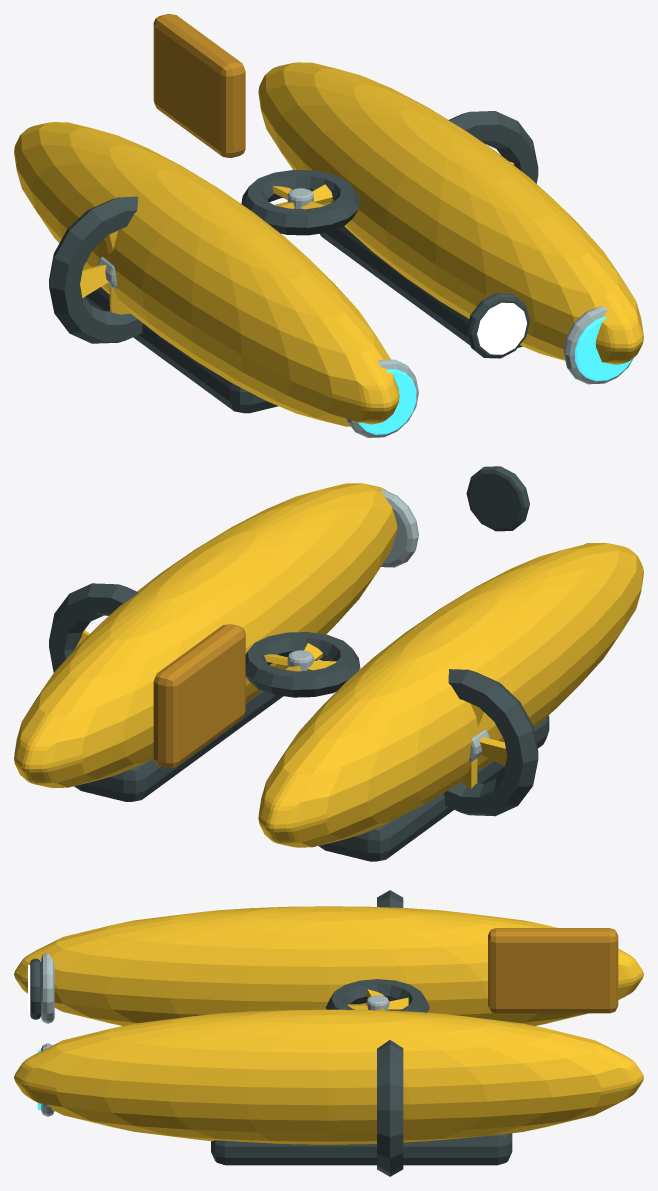
File: rov-hobbyist.glb
The picture shows the model from 3 angles, top to bottom: view 1: azimuth 30°, elevation 25°; view 2: azimuth 150°, elevation 25°; view 3: azimuth 270°, elevation 25°; orthographic projection. The views are drawn at different scales.
Parts seen in each view (by area): view 1: streamlined_hull_-0.3, streamlined_hull_0.3, tail_fin, drive_-0.43_housing, depth_housing, keel_-0.3, keel_0.3, drive_0.43_housing, nose_light, camera_0.27, camera_-0.27, nose_light_case (+3 smaller); view 2: streamlined_hull_-0.3, streamlined_hull_0.3, tail_fin, drive_-0.43_housing, depth_housing, keel_-0.3, keel_0.3, drive_0.43_housing, nose_light_case, camera_0.27_rim; view 3: streamlined_hull_0.3, streamlined_hull_-0.3, tail_fin, keel_0.3, drive_0.43_housing, depth_housing, camera_-0.27_rim, nose_light_case.
Boxes of the visible parts, bbox=[...] form: streamlined_hull_-0.3: bbox=[14, 122, 399, 426]; streamlined_hull_0.3: bbox=[258, 62, 643, 364]; tail_fin: bbox=[153, 14, 245, 157]; drive_-0.43_housing: bbox=[49, 196, 142, 343]; depth_housing: bbox=[241, 170, 360, 235]; keel_-0.3: bbox=[82, 269, 278, 413]; keel_0.3: bbox=[320, 204, 522, 347]; drive_0.43_housing: bbox=[448, 111, 538, 183]; nose_light: bbox=[477, 302, 527, 354]; camera_0.27: bbox=[575, 317, 632, 381]; camera_-0.27: bbox=[358, 369, 416, 434]; nose_light_case: bbox=[466, 293, 529, 358]; streamlined_hull_-0.3: bbox=[258, 543, 643, 847]; streamlined_hull_0.3: bbox=[14, 483, 397, 787]; tail_fin: bbox=[153, 624, 245, 767]; drive_-0.43_housing: bbox=[443, 669, 538, 816]; depth_housing: bbox=[245, 632, 360, 697]; keel_-0.3: bbox=[319, 715, 549, 861]; keel_0.3: bbox=[74, 690, 283, 801]; drive_0.43_housing: bbox=[49, 583, 137, 672]; nose_light_case: bbox=[466, 466, 529, 531]; camera_0.27_rim: bbox=[379, 489, 418, 567]; streamlined_hull_0.3: bbox=[14, 1009, 643, 1144]; streamlined_hull_-0.3: bbox=[14, 906, 643, 1025]; tail_fin: bbox=[488, 928, 618, 1013]; keel_0.3: bbox=[211, 1133, 512, 1165]; drive_0.43_housing: bbox=[377, 1040, 403, 1176]; depth_housing: bbox=[325, 979, 429, 1012]; camera_-0.27_rim: bbox=[41, 953, 54, 1023]; nose_light_case: bbox=[30, 958, 41, 1019].
Size of the model in its own units: 1.2 by 0.47 by 1.55.
